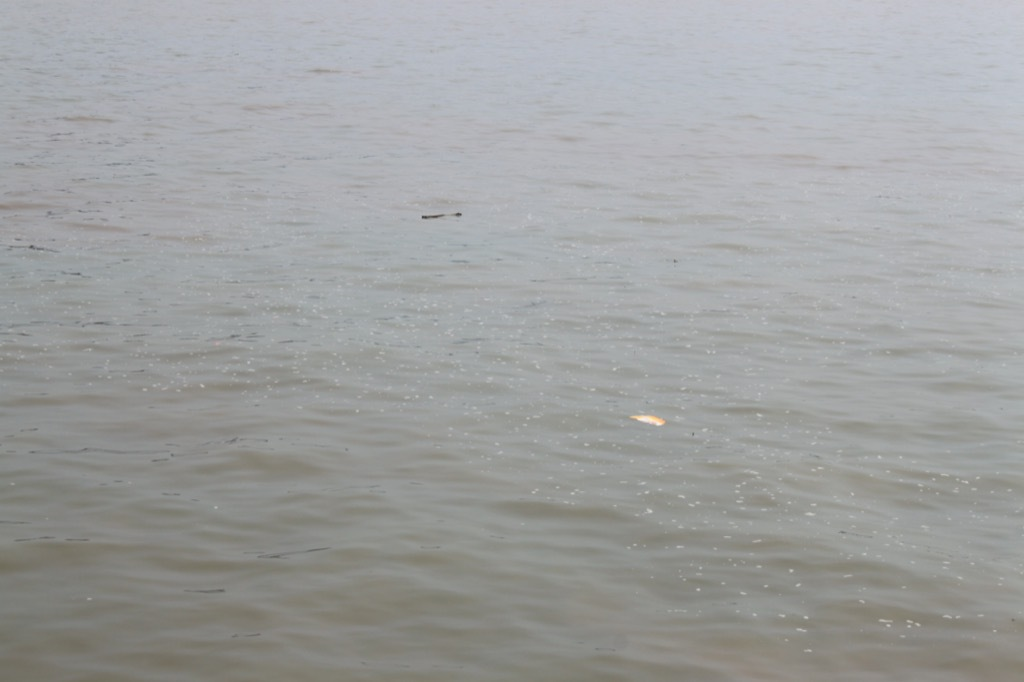organic: (405, 198, 497, 234), (664, 254, 692, 271)
plastic: (626, 407, 668, 436)
